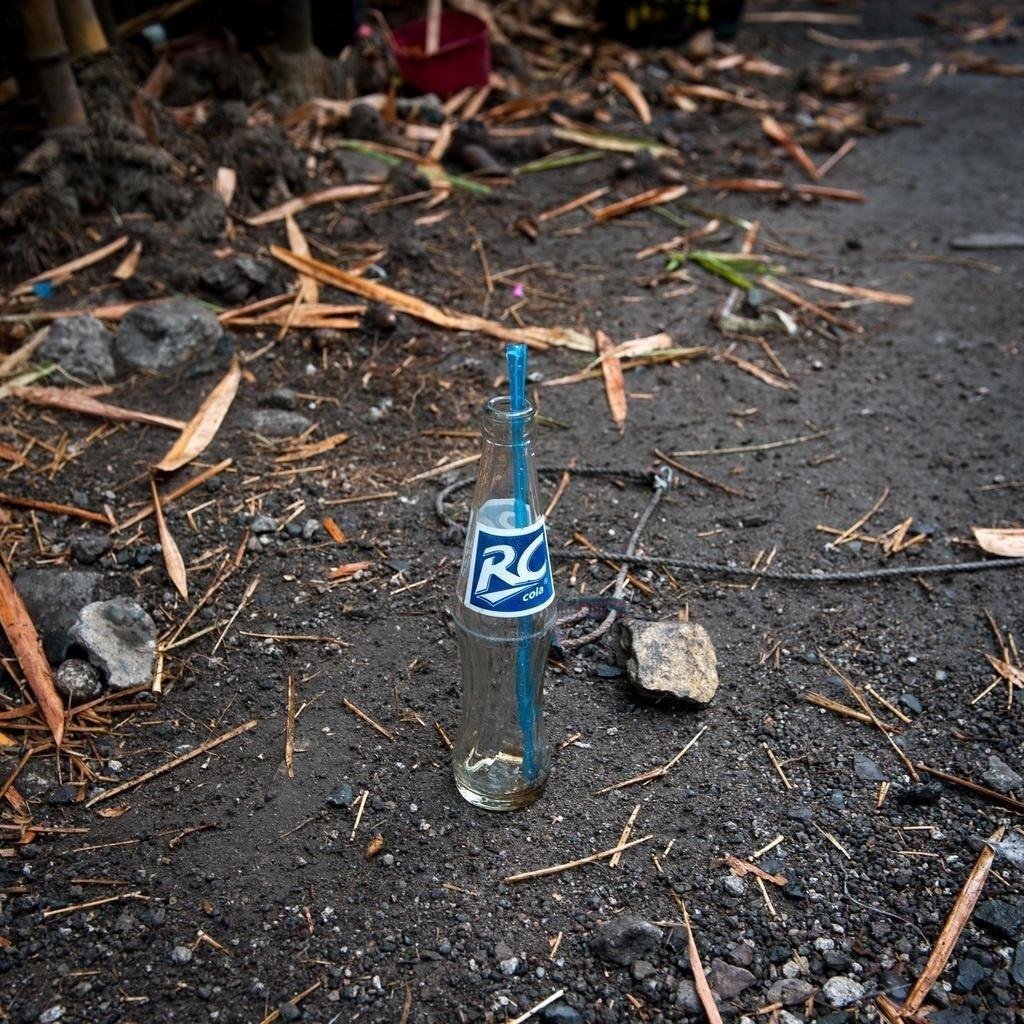bottle-glass: (445, 399, 563, 813)
